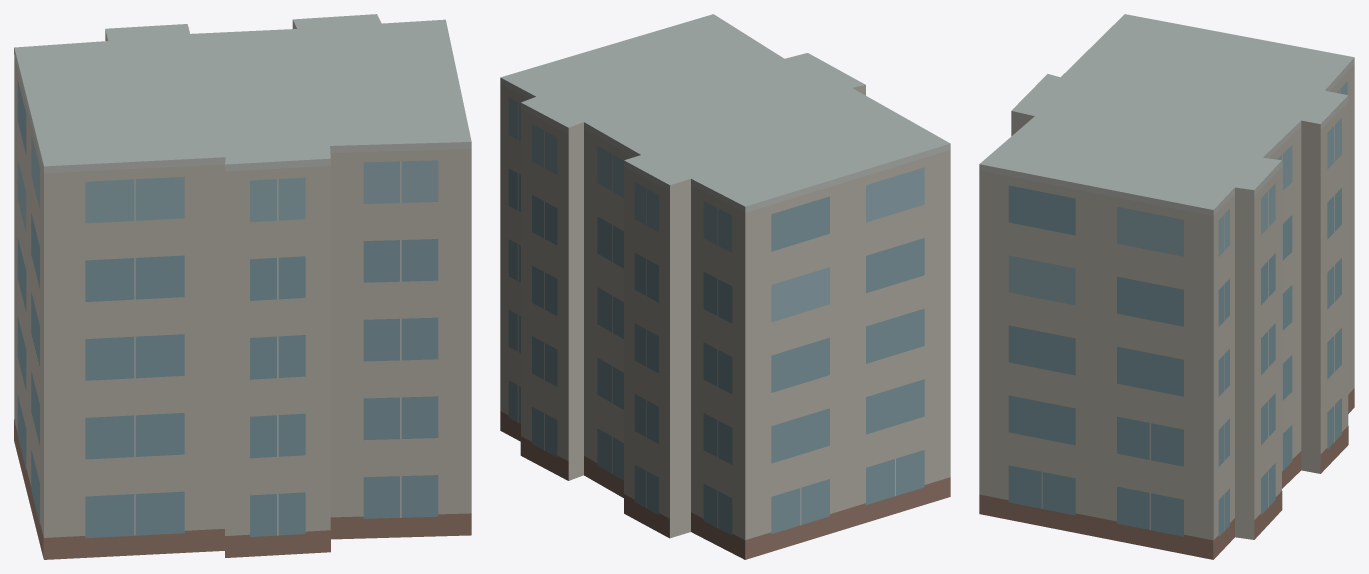
Rendered from survey-upis-32905840.glb.
The picture shows the model from 3 angles, left to right: view 1: azimuth 30°, elevation 25°; view 2: azimuth 150°, elevation 25°; view 3: azimuth 270°, elevation 25°; orthographic projection. The views are drawn at different scales.
Visible parts, largest first — view 1: survey-upis-32905840.tmp; view 2: survey-upis-32905840.tmp; view 3: survey-upis-32905840.tmp.
Part boxes in pixels (x1,y1,x2,y2): survey-upis-32905840.tmp: (14,14,471,559); survey-upis-32905840.tmp: (500,14,950,559); survey-upis-32905840.tmp: (979,14,1354,559).
Bounding box in the file's own units: 16.59 × 13.8 × 13.43.
